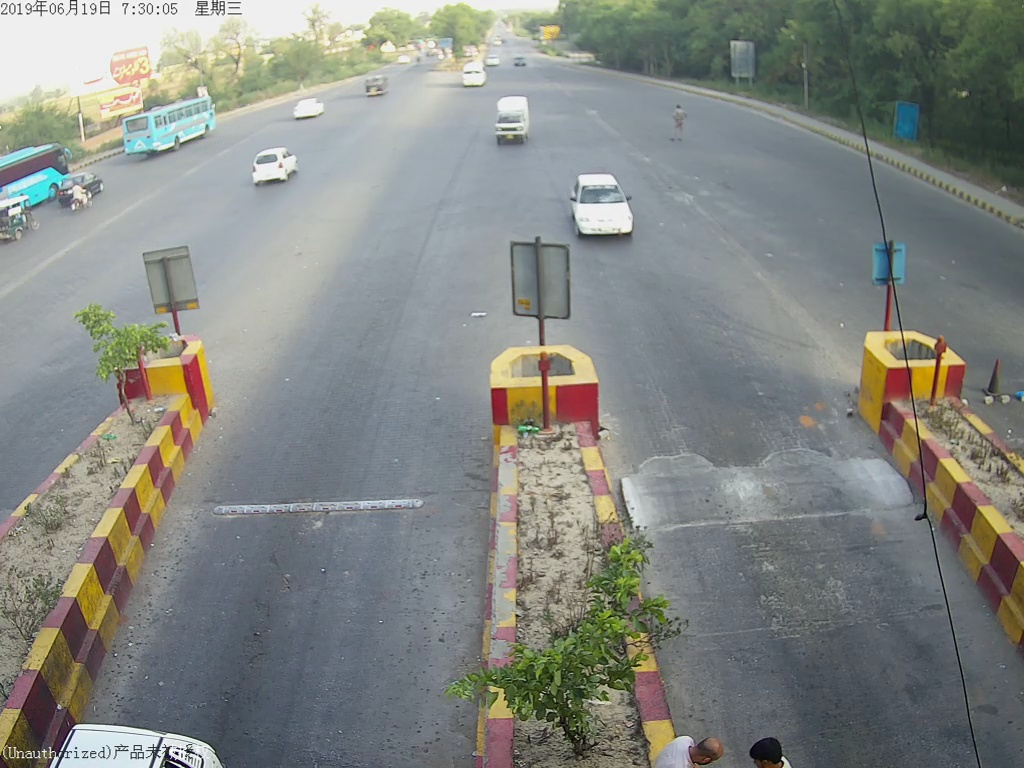Cat-1: (571, 169, 640, 236), (488, 95, 536, 148)
